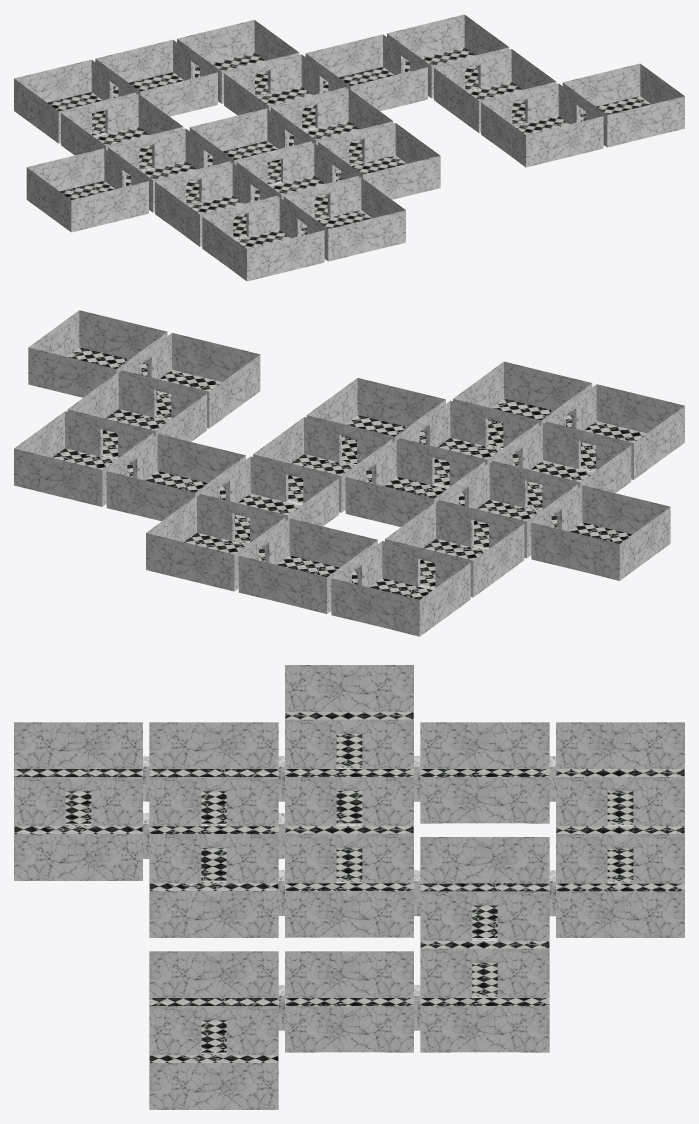
File: SignalSixLevel.FBX
The picture shows the model from 3 angles, top to bottom: view 1: azimuth 30°, elevation 25°; view 2: azimuth 150°, elevation 25°; view 3: azimuth 270°, elevation 25°; orthographic projection. The views are drawn at different scales.
Visible parts, largest first — view 1: Rooms-3Door001; view 2: Rooms-3Door001; view 3: Rooms-3Door001.
Boxes of the visible parts, <box> form: Rooms-3Door001: <box>14,14,684,281</box>; Rooms-3Door001: <box>14,310,684,636</box>; Rooms-3Door001: <box>14,665,684,1109</box>.
Bounding box in the file's own units: 146 × 104 × 8.05.
1 material, 1 textured.
